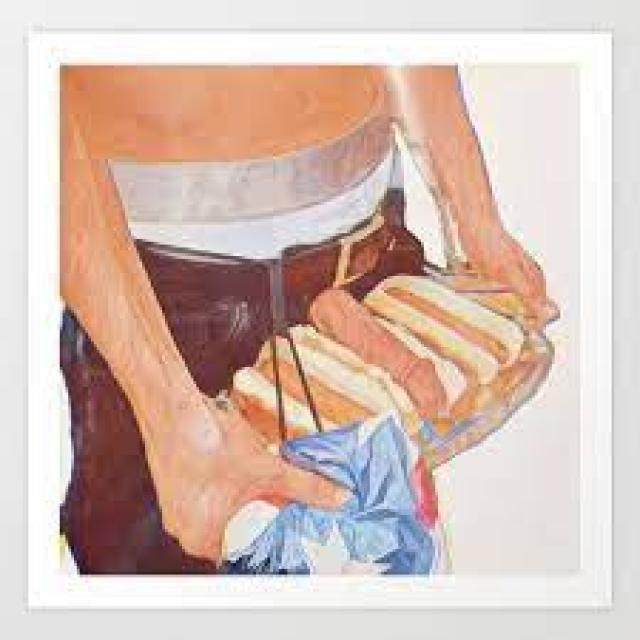Hot Dog: (226, 281, 564, 473)
